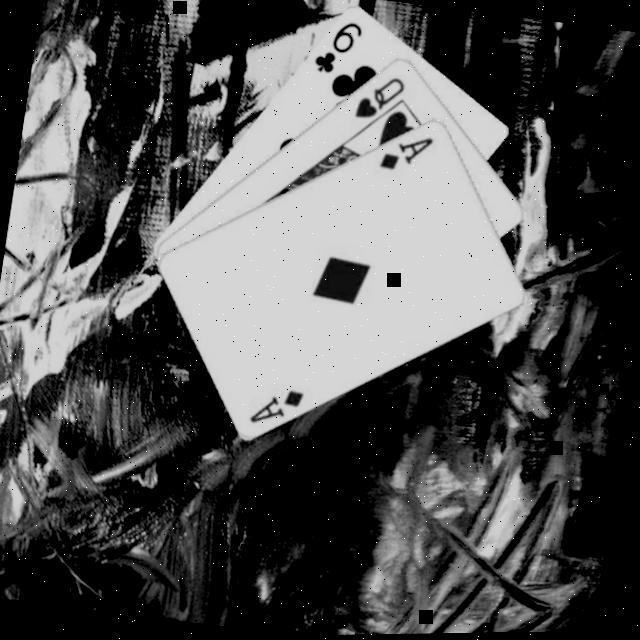6C: (311, 16, 368, 83)
AD: (377, 130, 439, 182), (248, 383, 310, 435)
QH: (352, 72, 410, 130)
